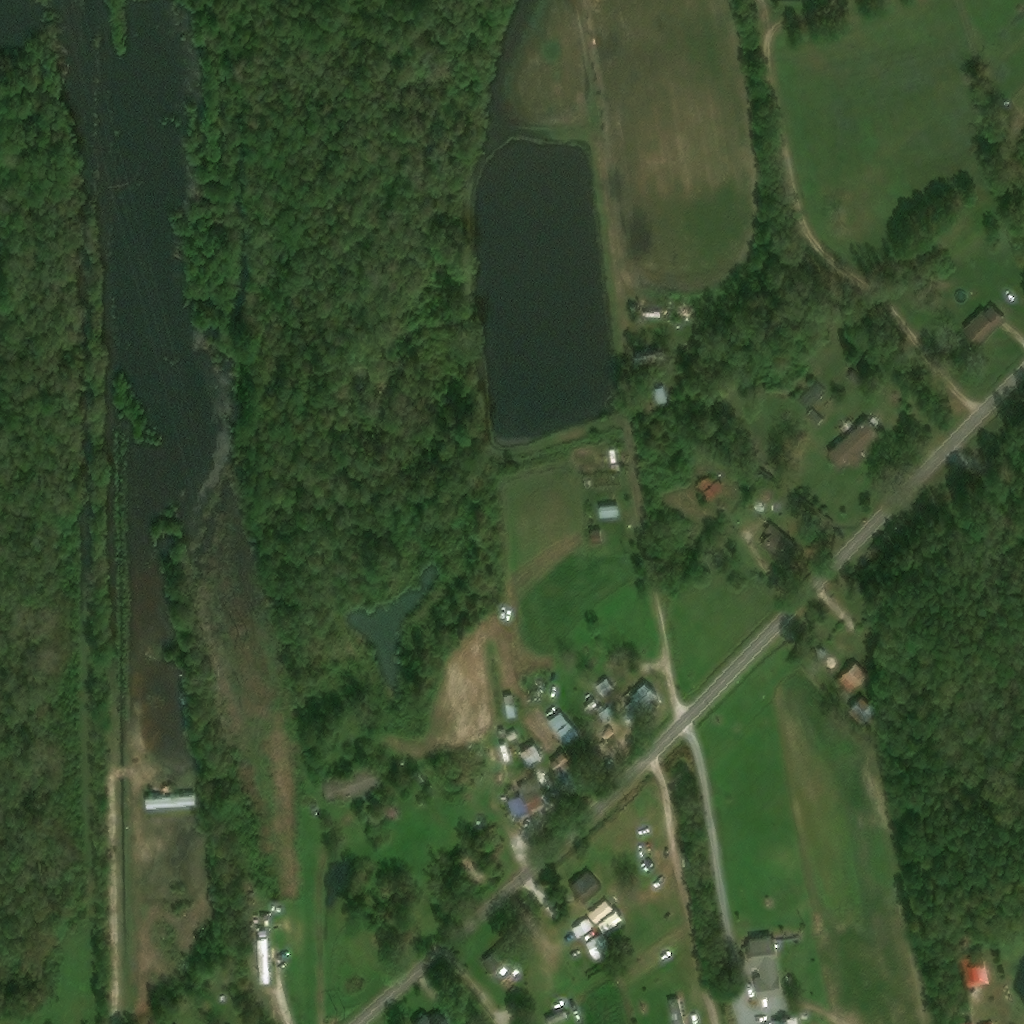minor_damage: (143, 794, 198, 812)
no_damage: (823, 418, 882, 469), (320, 761, 382, 800), (957, 304, 1007, 351), (741, 936, 780, 996), (506, 774, 553, 819), (760, 521, 799, 566), (457, 845, 499, 886), (483, 945, 526, 984), (543, 710, 578, 748), (412, 999, 466, 1023), (569, 868, 603, 906), (555, 758, 589, 793), (836, 660, 868, 695), (955, 954, 987, 988), (845, 695, 878, 727), (624, 681, 656, 712), (696, 475, 726, 506), (585, 931, 616, 960), (368, 802, 401, 827), (257, 938, 274, 984), (588, 899, 615, 924), (515, 740, 540, 767), (593, 701, 618, 726), (572, 917, 597, 938), (668, 997, 688, 1023), (593, 677, 615, 699), (600, 910, 622, 929), (500, 693, 515, 720), (806, 408, 825, 428), (652, 383, 668, 406), (846, 370, 866, 388), (946, 1006, 968, 1021), (598, 504, 618, 519), (588, 529, 605, 546), (581, 699, 598, 715), (770, 1014, 797, 1023), (743, 494, 757, 510), (609, 448, 618, 464), (260, 929, 274, 937), (220, 996, 229, 1003), (798, 1015, 806, 1022), (583, 935, 591, 942)
